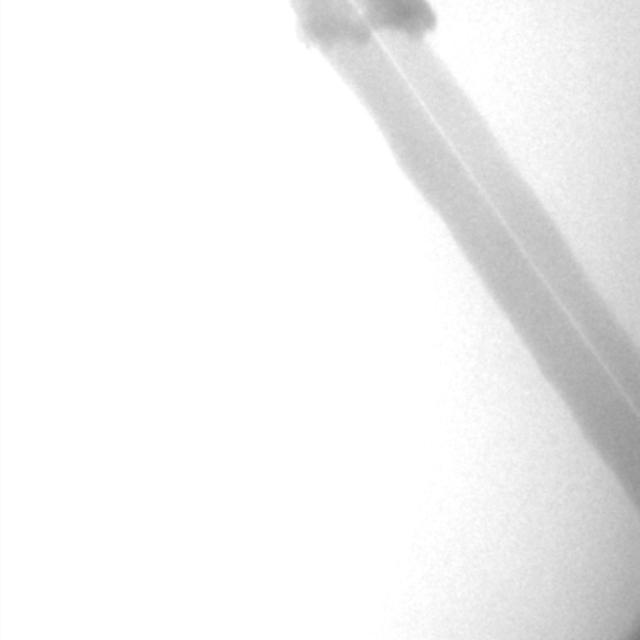broken arc: (353, 0, 635, 412)
